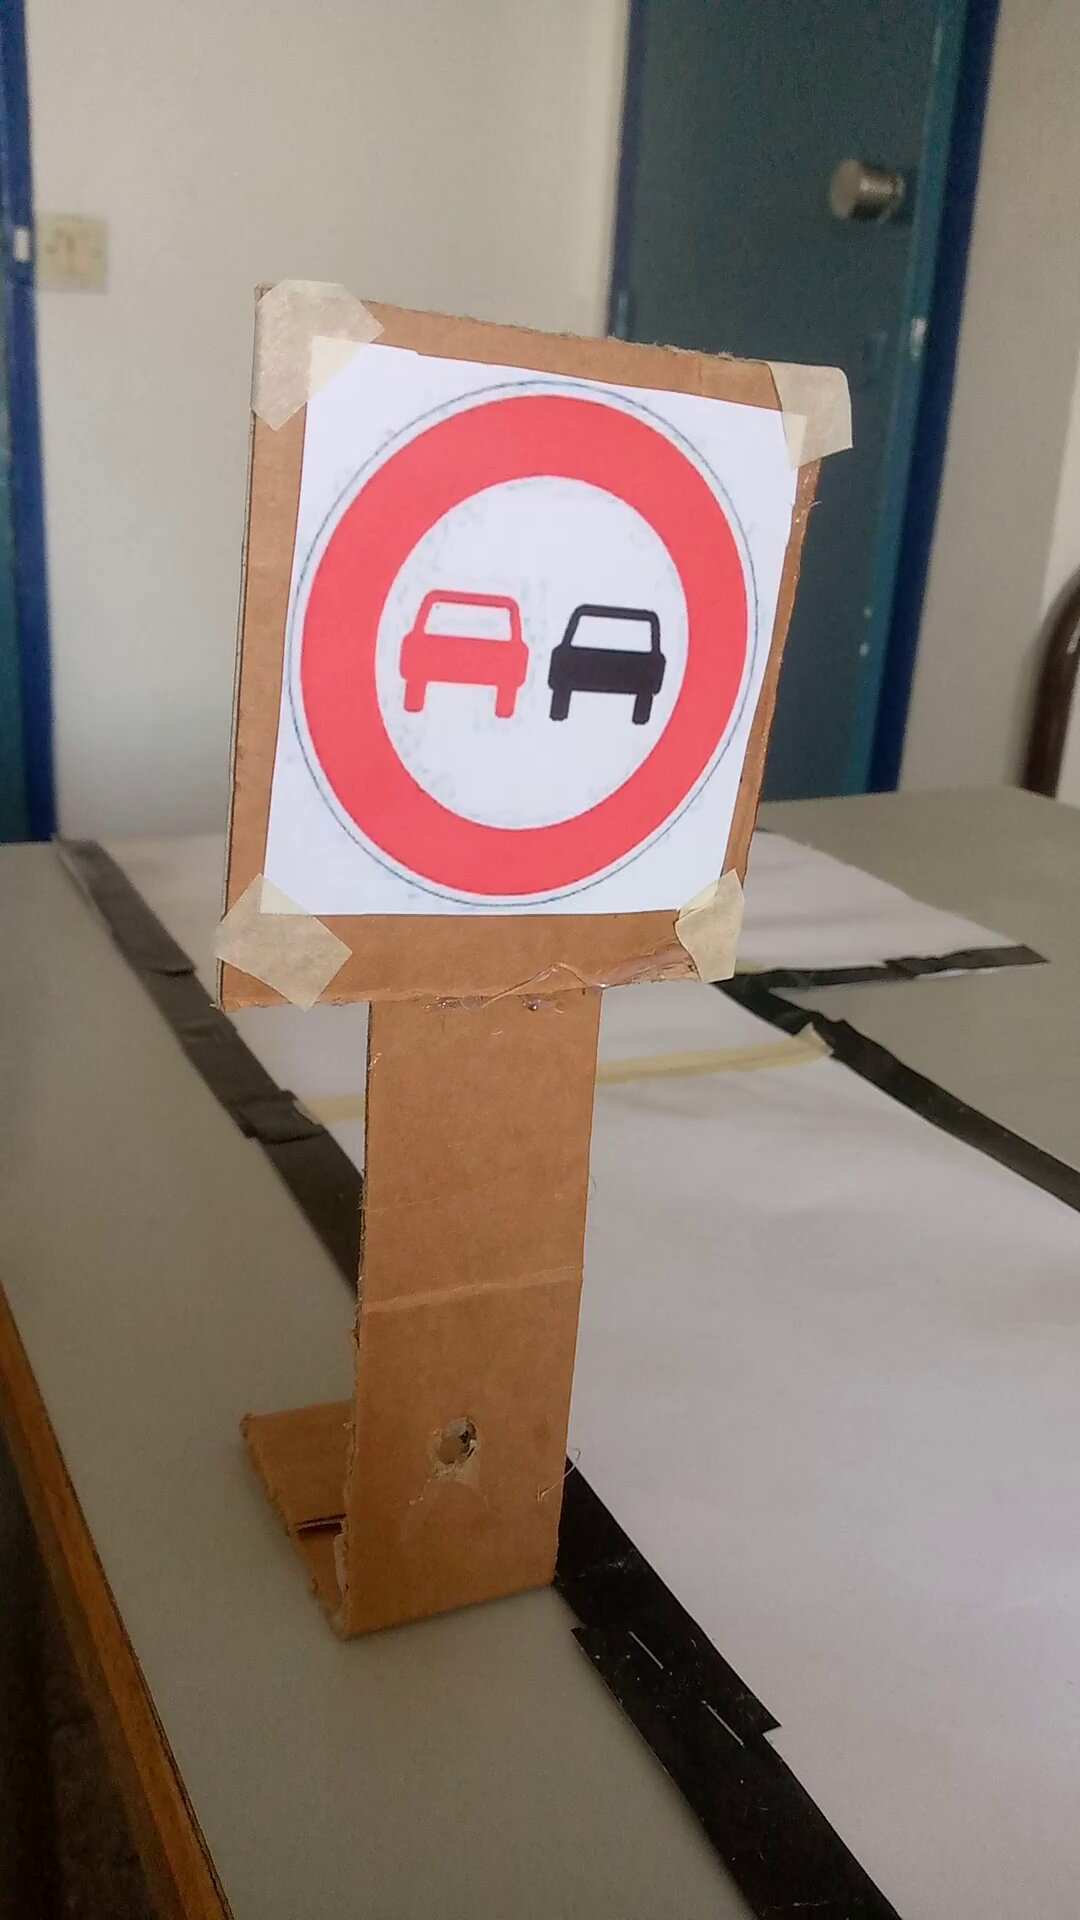panel100: (301, 338, 758, 914)
